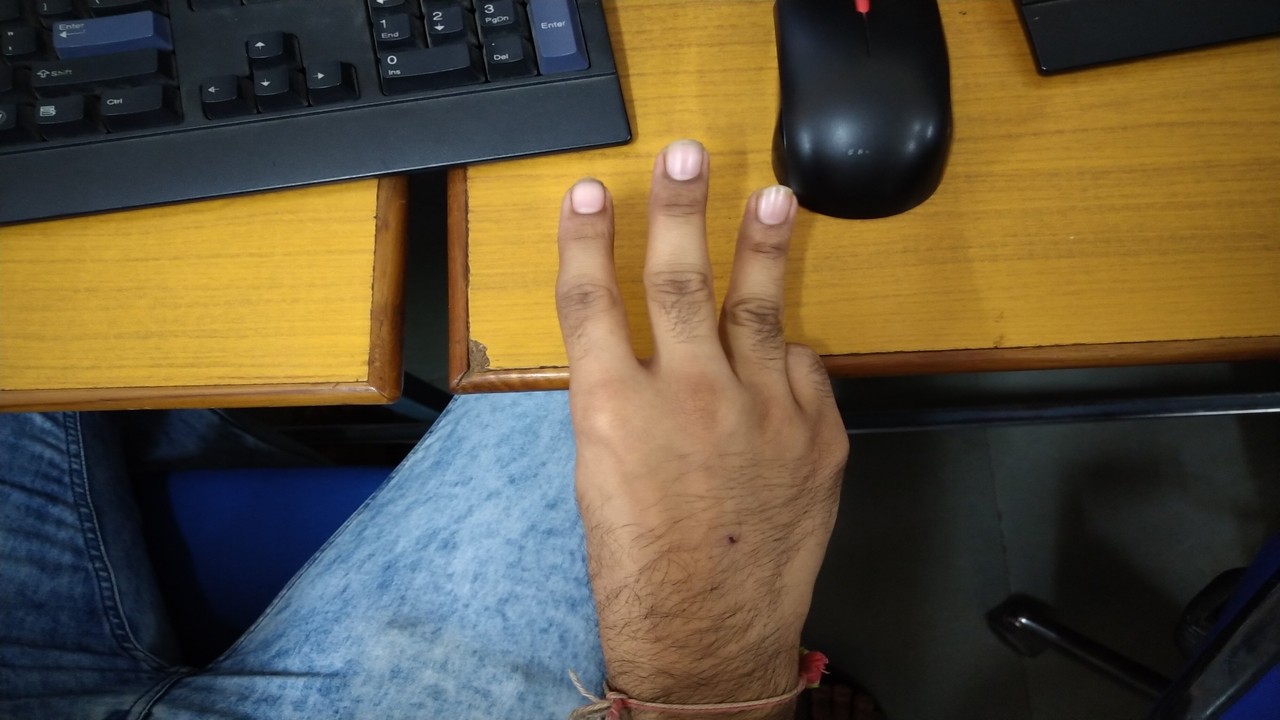fingertip: (738, 172, 800, 240), (646, 130, 714, 192), (556, 166, 616, 228)
